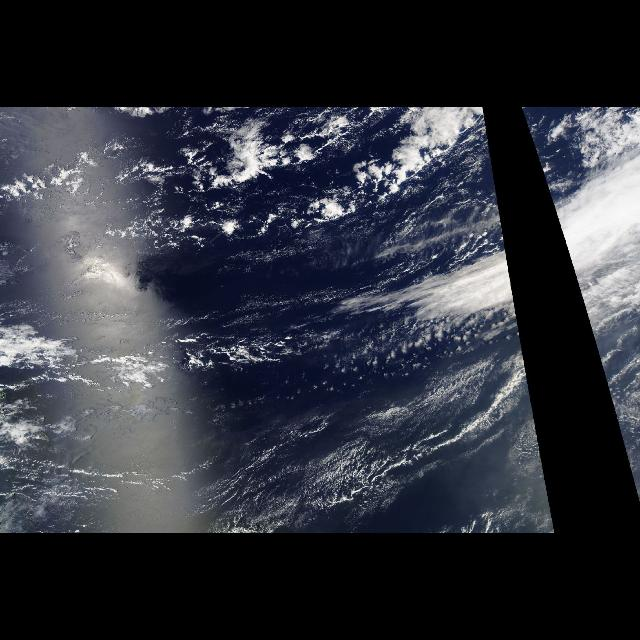Gravel: (116, 151, 408, 247), (235, 425, 480, 513)
Sugar: (210, 422, 448, 526)
